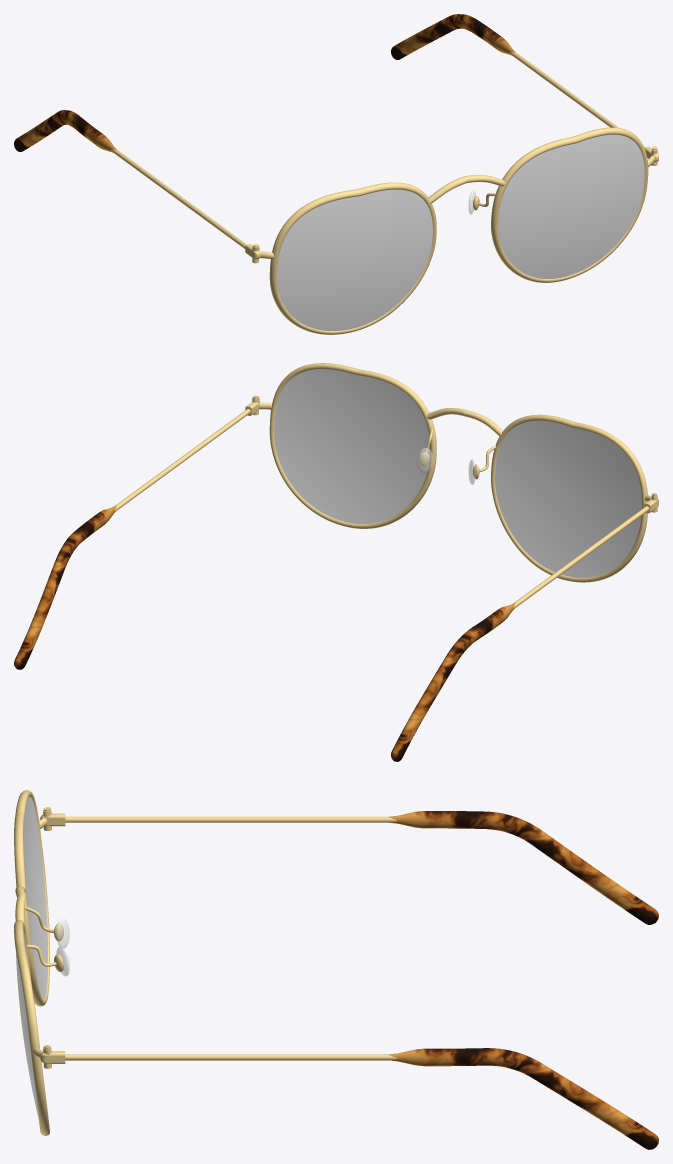
Rendered from orbit.glb.
3 views of the same model, one above another, from view 1: azimuth 30°, elevation 25°; view 2: azimuth 150°, elevation 25°; view 3: azimuth 270°, elevation 25° (orthographic). The views are drawn at different scales.
Visible parts, largest first — view 1: lens_R, lens_L, frame, temple_L_tip, temple_R_tip, temple_R_body, temple_L_body; view 2: lens_L, lens_R, frame, temple_R_tip, temple_L_tip, temple_R_body, temple_L_body; view 3: frame, temple_R_tip, temple_L_tip, lens_R, temple_L_body, temple_R_body, lens_L, nose_pads.
Boxes of the visible parts, bbox=[...] form: lens_R: bbox=[277, 189, 432, 330]; lens_L: bbox=[498, 134, 644, 278]; frame: bbox=[252, 127, 657, 334]; temple_L_tip: bbox=[391, 14, 515, 59]; temple_R_tip: bbox=[14, 110, 116, 152]; temple_R_body: bbox=[111, 149, 260, 263]; temple_L_body: bbox=[509, 52, 658, 165]; lens_L: bbox=[274, 369, 429, 523]; lens_R: bbox=[495, 420, 641, 577]; frame: bbox=[252, 363, 657, 582]; temple_R_tip: bbox=[391, 603, 515, 761]; temple_L_tip: bbox=[14, 505, 116, 669]; temple_R_body: bbox=[513, 499, 658, 608]; temple_L_body: bbox=[115, 402, 260, 511]; frame: bbox=[14, 790, 63, 1135]; temple_R_tip: bbox=[388, 811, 658, 924]; temple_L_tip: bbox=[388, 1048, 658, 1149]; lens_R: bbox=[23, 796, 47, 999]; temple_L_body: bbox=[40, 1051, 396, 1068]; temple_R_body: bbox=[40, 813, 396, 830]; lens_L: bbox=[16, 931, 39, 1120]; nose_pads: bbox=[56, 918, 69, 976].
Bounding box in the file's own units: 0.1321 × 0.0466 × 0.1479.
4 materials, 1 textured.
